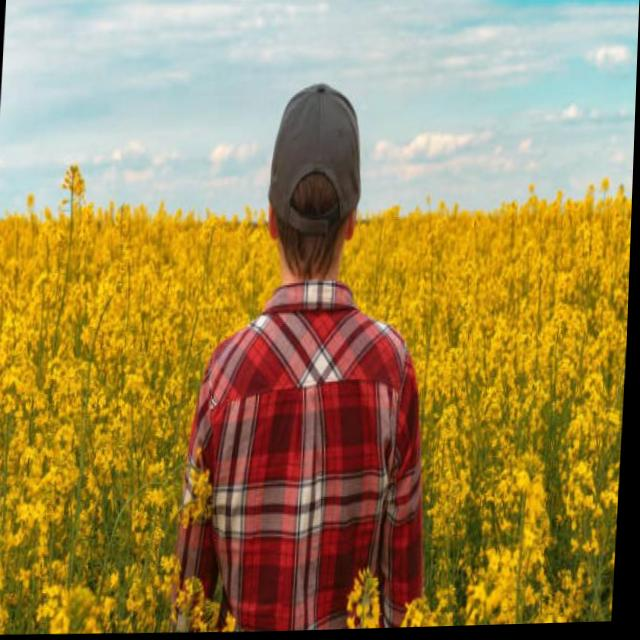no helmet: (242, 71, 391, 299)
